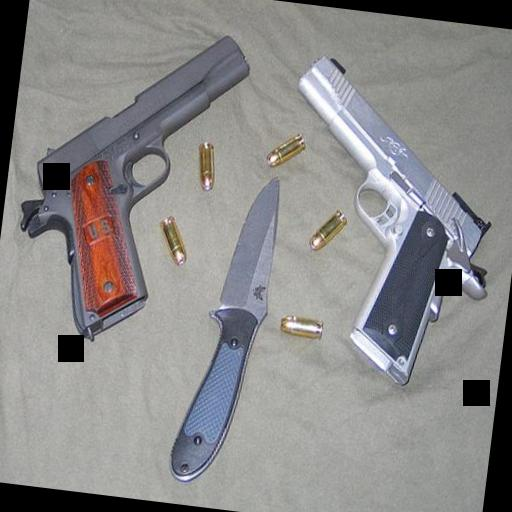Handgun: (258, 48, 512, 396), (4, 10, 254, 354)
